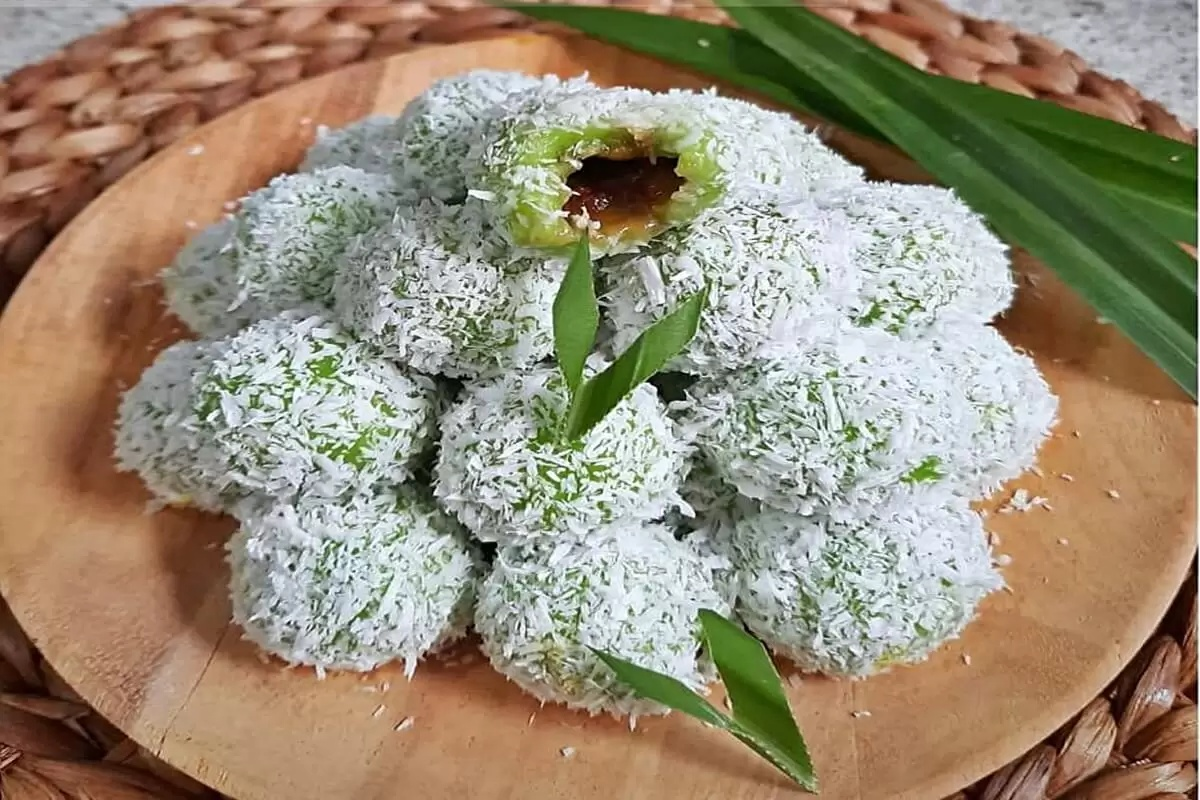klepon: (444, 64, 751, 258)
